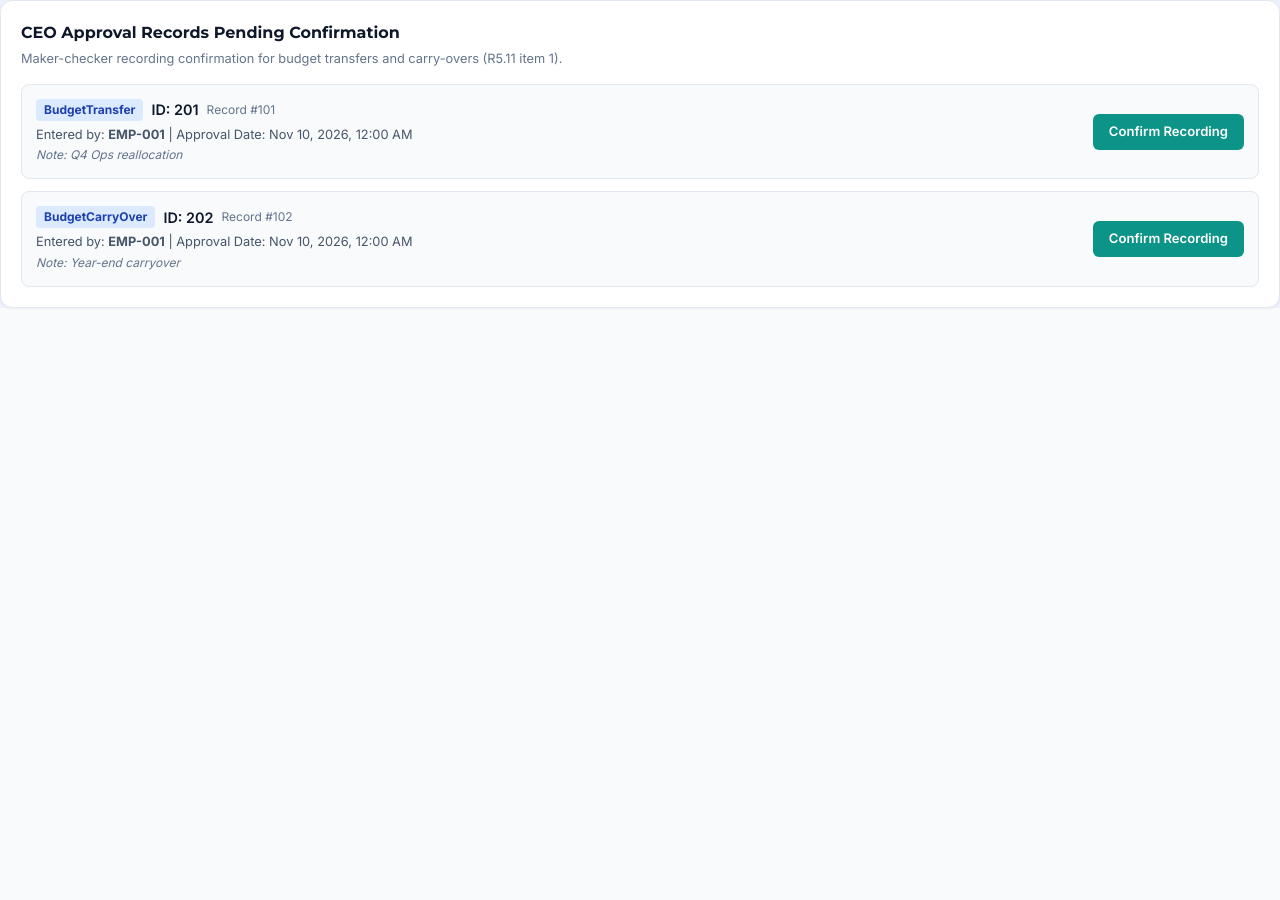
it: R5.11 Item 1: Head Accountant Maker-Checker CEO Approval Confirmation › Head Accountant sees the Confirm action, can enter a note, and calls the confirmation endpoint
The width and height of the screenshot is (1280, 900).
Expected: the text "ID: 201" is shown, [152,99,199,121]
Expected: the text "ID: 202" is shown, [164,207,214,228]
// Click confirm on record 101
Click the button "Confirm Recording" in the row of "101": point(1168, 132) [1093,114,1244,150]
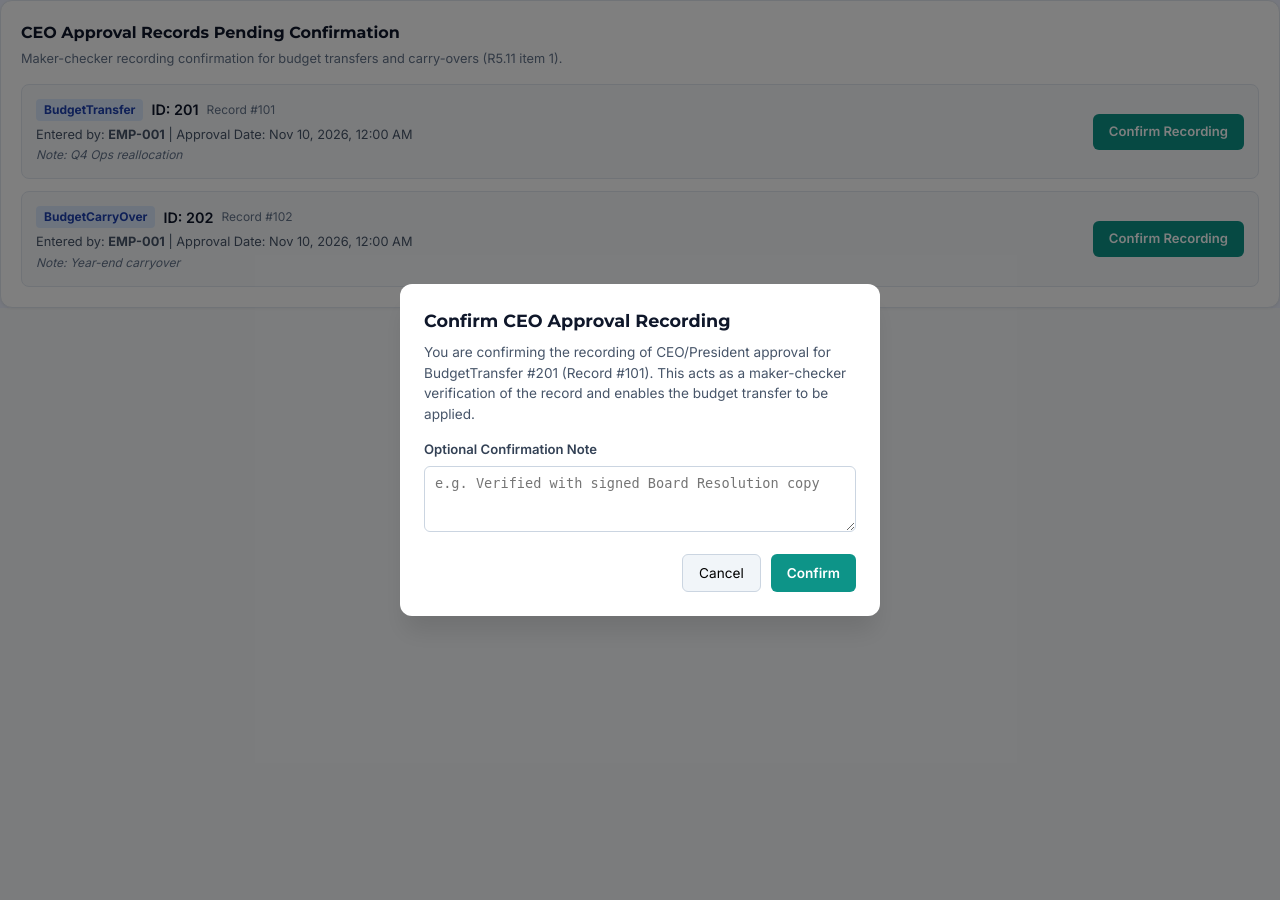
Expected: the element with test id "confirm-modal" is shown
Expected: the heading "Confirm CEO Approval Recording" is shown, [424,310,730,331]
// Fill optional note
In the text box with test id "confirm-note-input": point(640, 499) [424,466,856,532], type "Verified with signed board minute"
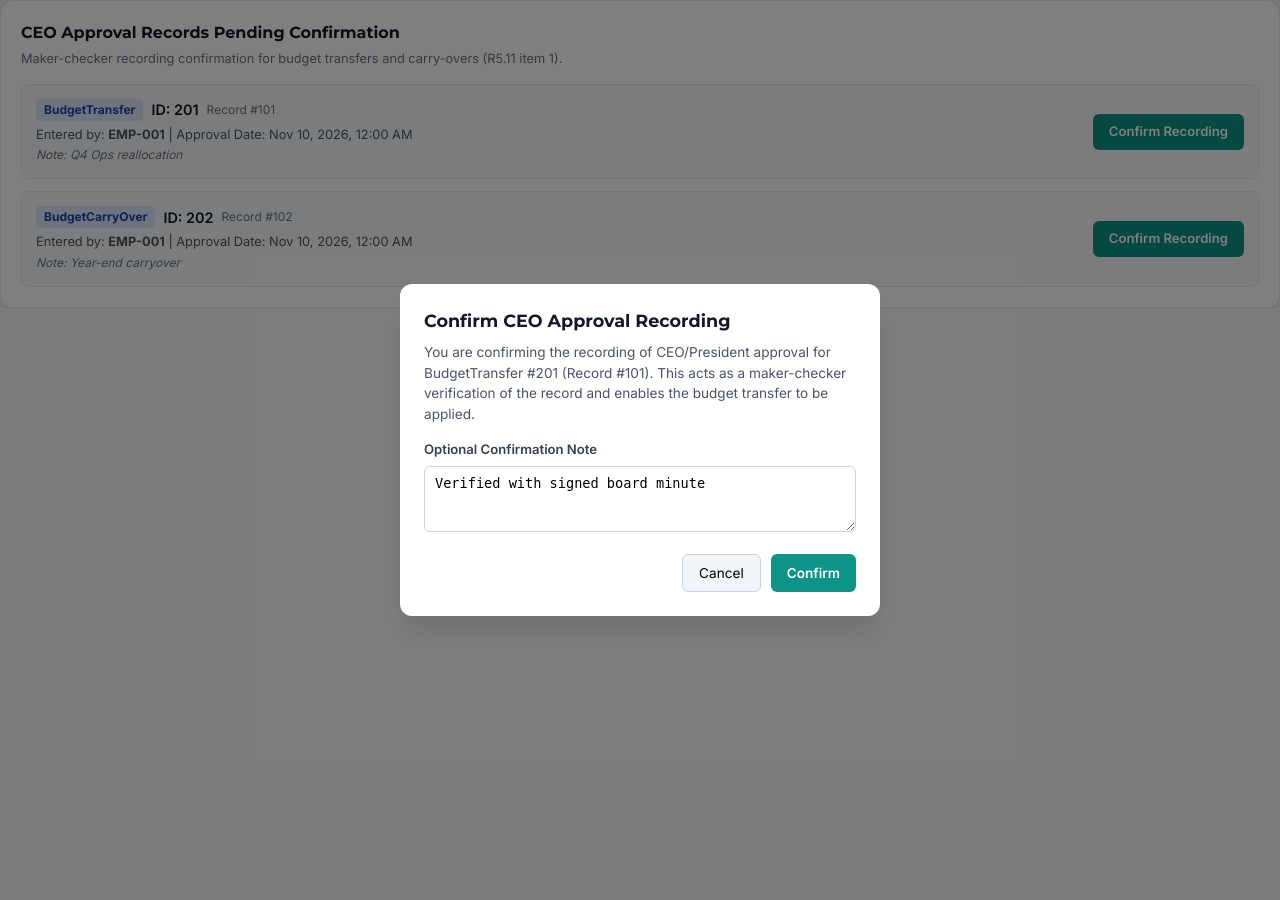
// Submit confirmation
Click the button with test id "submit-confirm-btn": point(813, 573) [771,554,856,592]
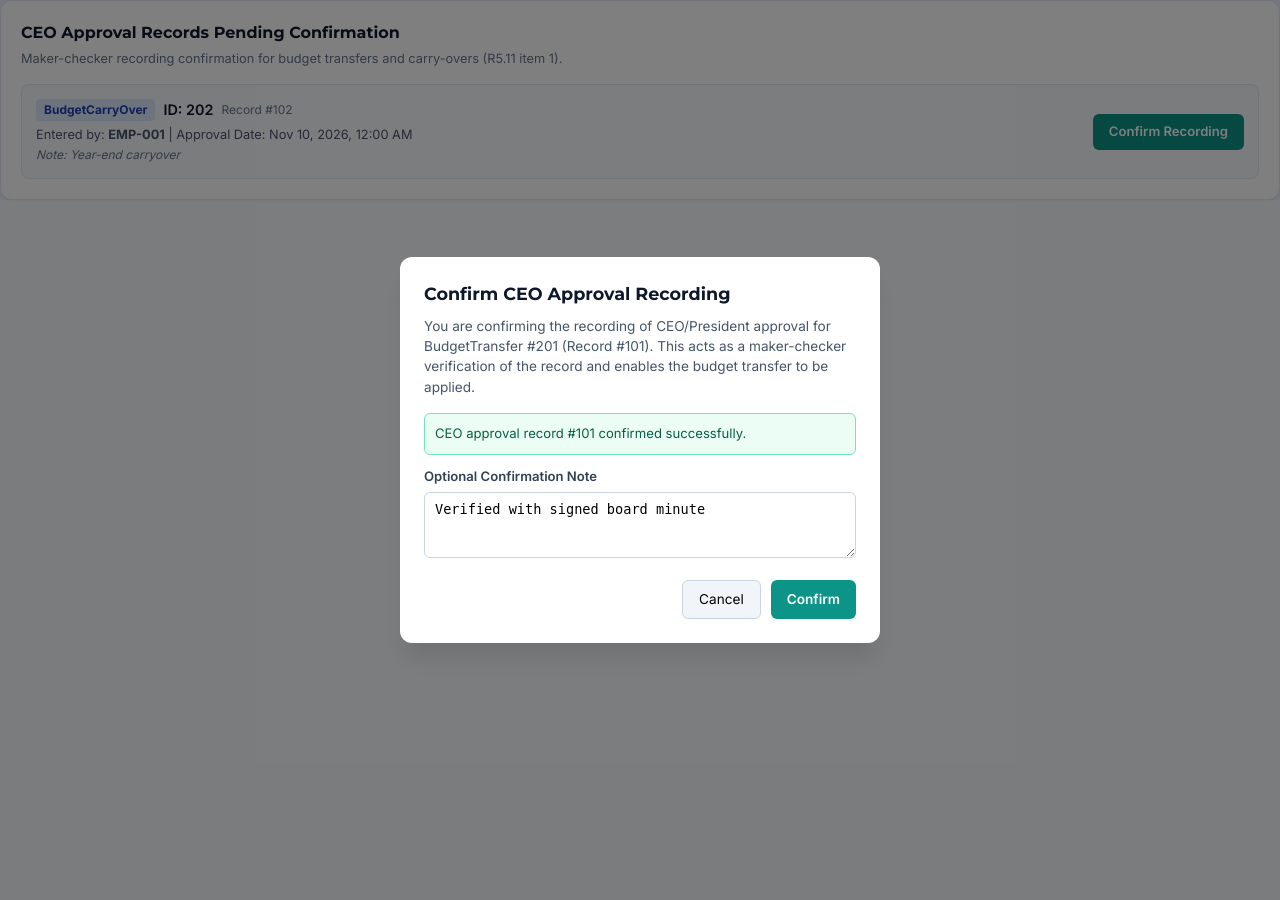
Expected: the text "CEO approval record #101 confirmed successfully." is shown, [424,413,856,455]
